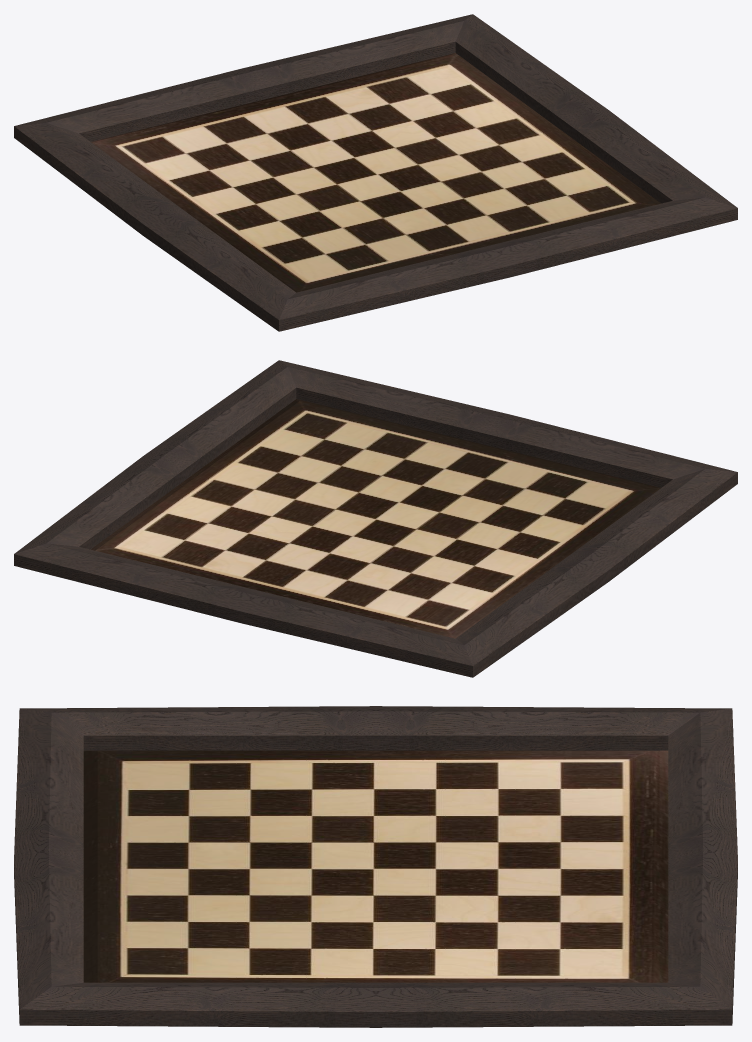
The model's file is board_with_border.FBX.
3 views of the same model, one above another, from view 1: azimuth 30°, elevation 25°; view 2: azimuth 150°, elevation 25°; view 3: azimuth 270°, elevation 25° (orthographic). The views are drawn at different scales.
Parts seen in each view (by area): view 1: Board, Border; view 2: Board, Border; view 3: Board, Border.
Part boxes in pixels (box(x1,y1,x2,y2)): Board: box(91, 53, 660, 292); Border: box(14, 14, 737, 331); Board: box(91, 399, 660, 638); Border: box(14, 360, 737, 677); Board: box(83, 750, 668, 982); Border: box(14, 706, 737, 1027).
Bounding box in the file's own units: 1040 × 90 × 1040.
